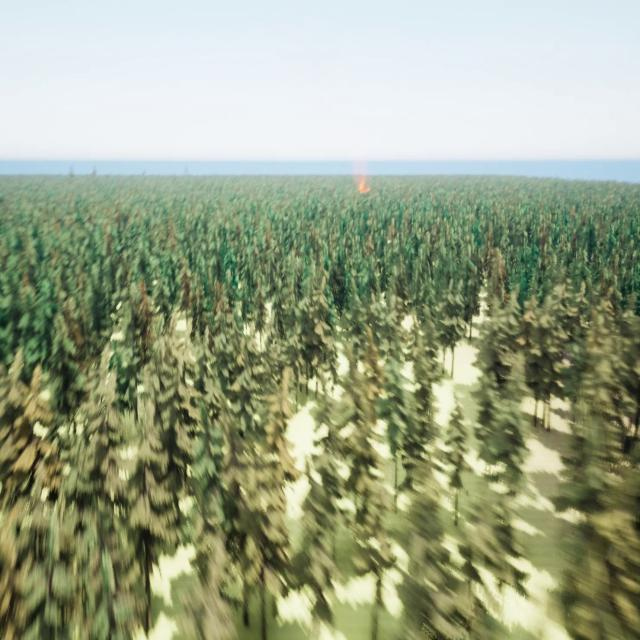fire: (352, 166, 373, 197)
